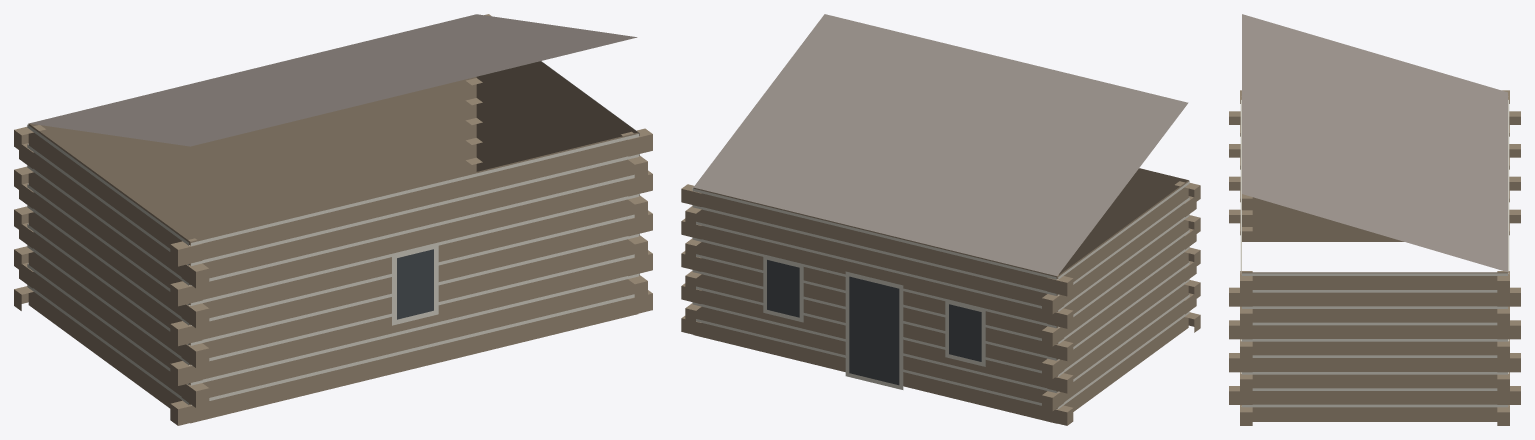
Rendered from fort_dearborn_artillery_house__log_1816.glb.
3 views of the same model, side by side, from view 1: azimuth 30°, elevation 25°; view 2: azimuth 150°, elevation 25°; view 3: azimuth 270°, elevation 25° (orthographic). The views are drawn at different scales.
Parts seen in each view (by area): view 1: fort_dearborn_artillery_house__log_1816; view 2: fort_dearborn_artillery_house__log_1816; view 3: fort_dearborn_artillery_house__log_1816.
Part boxes in pixels (x1,y1,x2,y2): fort_dearborn_artillery_house__log_1816: (14, 14, 652, 425); fort_dearborn_artillery_house__log_1816: (681, 14, 1200, 425); fort_dearborn_artillery_house__log_1816: (1229, 14, 1520, 425).
Size of the model in its own units: 8.48 by 4.79 by 5.48.
